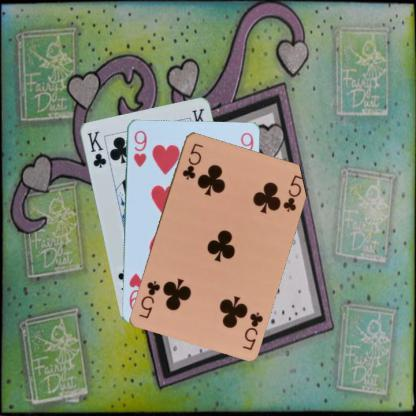5c: (239, 309, 264, 351), (179, 140, 204, 181)
9h: (131, 128, 147, 168)
Kc: (84, 128, 108, 169)
